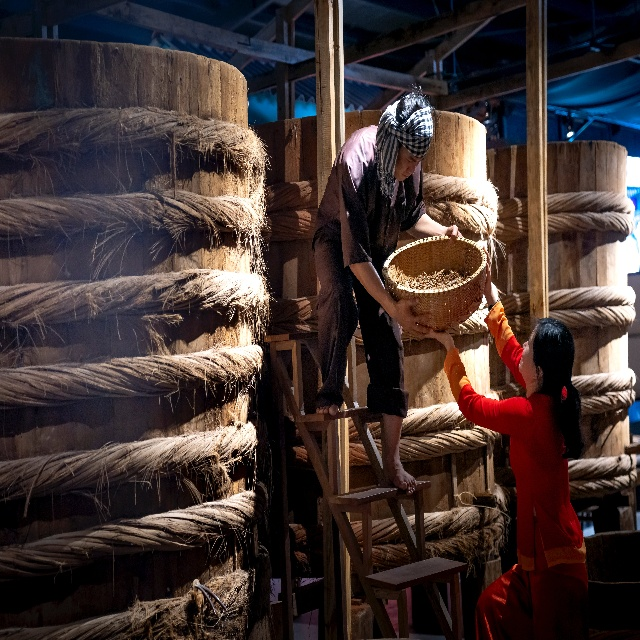Sin_guantes: (395, 296, 432, 340), (482, 245, 492, 296), (426, 329, 451, 342), (445, 225, 462, 244)
